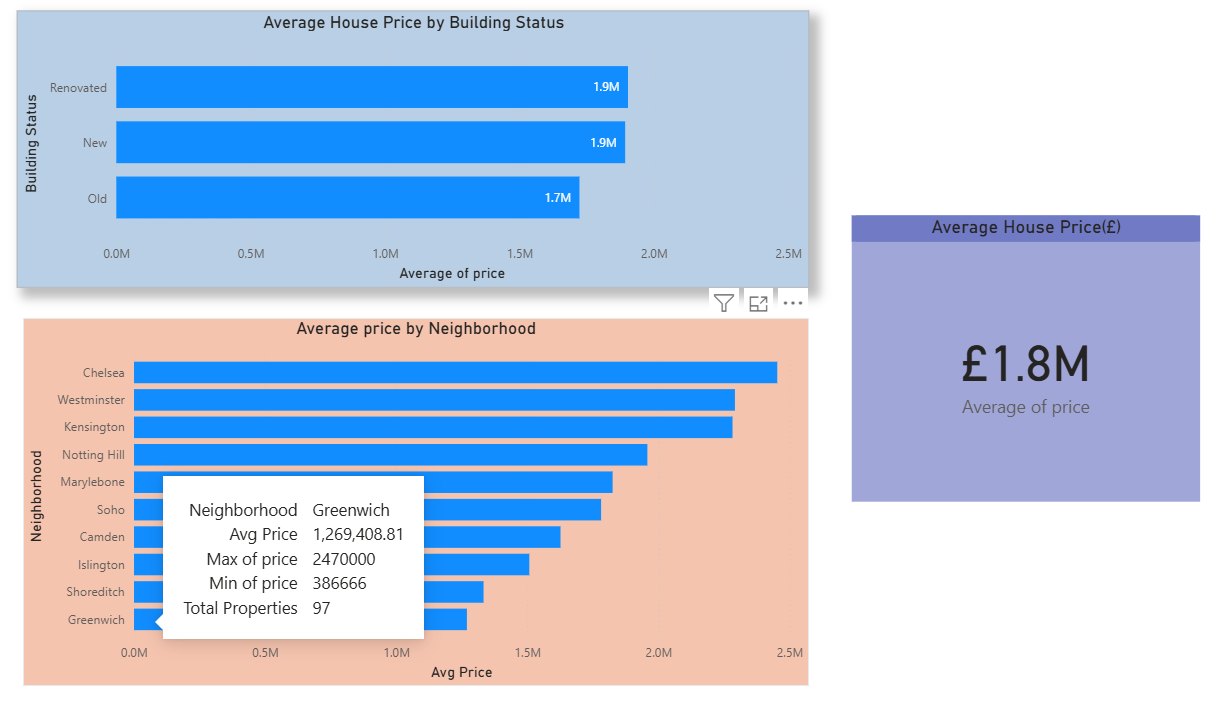

The page's visual inventory and layout, read from the dashboard file:
{"tool":"powerbi","page":{"name":"Page 1","canvas":[1280,720],"ordinal":0},"visuals":[{"type":"card","title":"Average House Price(£)","fields":{"Values":["Avg(my_scheme london_houses.price)"]},"box":[889,222.6,341.2,280],"z":0},{"type":"clusteredBarChart","title":"Average House Price by Building Status","fields":{"Category":["my_scheme london_houses.Building Status"],"Y":["Avg(my_scheme london_houses.price)"]},"box":[72.1,22,775.3,271.5],"z":1000},{"type":"clusteredBarChart","title":"Average price by Neighborhood","fields":{"Category":["my_scheme london_houses.Neighborhood"],"Y":["my_scheme london_houses.Avg Price"]},"box":[78.3,322.8,769.2,359.5],"z":2000}]}

Visuals, with their boxes in screenshot pixels (x1, y1, x2, y2):
"Average House Price(£)" card: crop(849, 213, 1196, 498)
"Average House Price by Building Status" clusteredBarChart: crop(19, 10, 807, 285)
"Average price by Neighborhood" clusteredBarChart: crop(25, 315, 807, 681)
